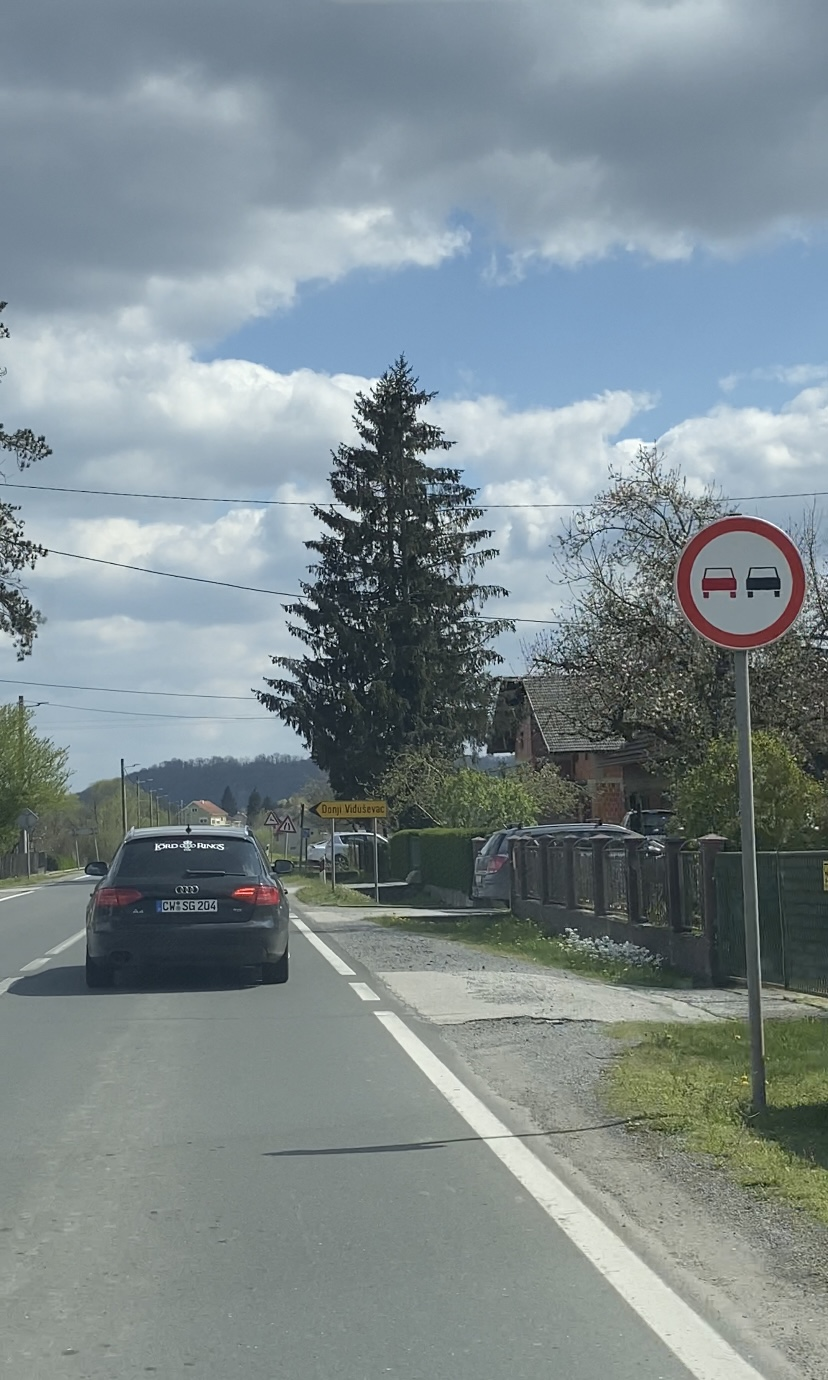Zabrana pretjecanja: (675, 515, 806, 650)
